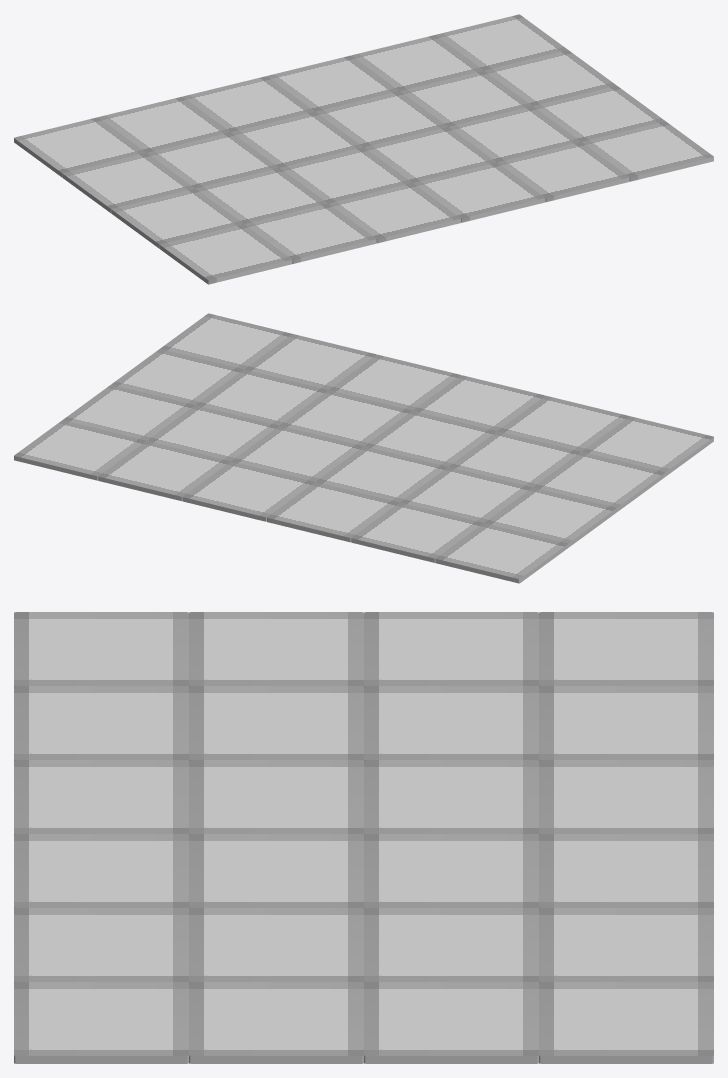
File: test_map.glb
3 renders of one model, top to bottom at view 1: azimuth 30°, elevation 25°; view 2: azimuth 150°, elevation 25°; view 3: azimuth 270°, elevation 25°, orthographic. The views are drawn at different scales.
Parts seen in each view (by area): view 1: Floor; view 2: Floor; view 3: Floor.
Part boxes in pixels (x1,y1,x2,y2): Floor: (14, 14, 713, 284); Floor: (14, 313, 713, 583); Floor: (14, 612, 713, 1063).
Bounding box in the file's own units: 6 × 0.05 × 4.
Materials: 1 (1 with a texture image).
